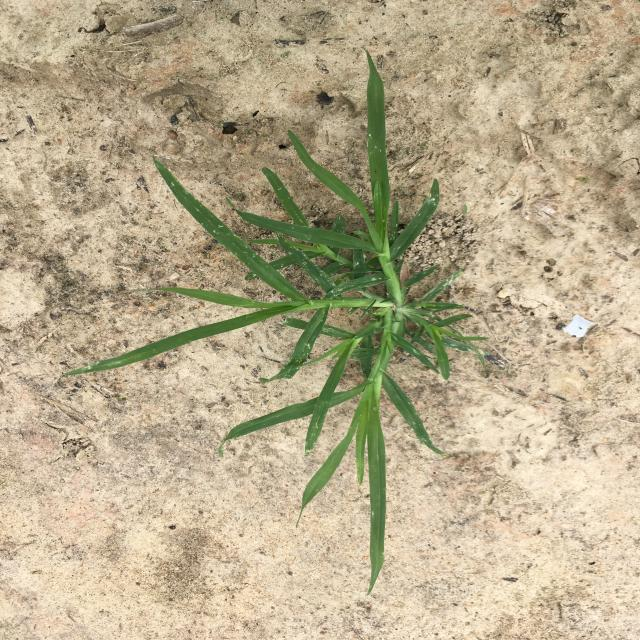Goosegrass: (65, 50, 491, 594)
